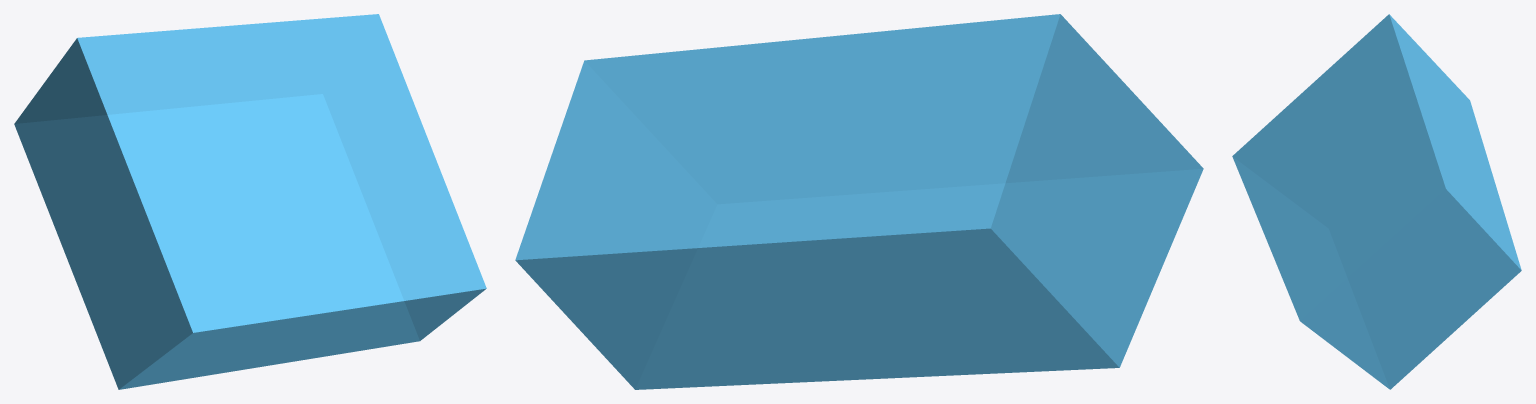
File: Event_421278790_HErechit_27.fbx
3 renders of one model, left to right at view 1: azimuth 30°, elevation 25°; view 2: azimuth 150°, elevation 25°; view 3: azimuth 270°, elevation 25°, orthographic. The views are drawn at different scales.
Parts seen in each view (by area): view 1: Model; view 2: Model; view 3: Model.
Part boxes in pixels (x1,y1,x2,y2): Model: (14,14,486,389); Model: (515,14,1203,389); Model: (1232,14,1521,389).
Size of the model in its own units: 0.8347 by 0.8915 by 0.8915.
